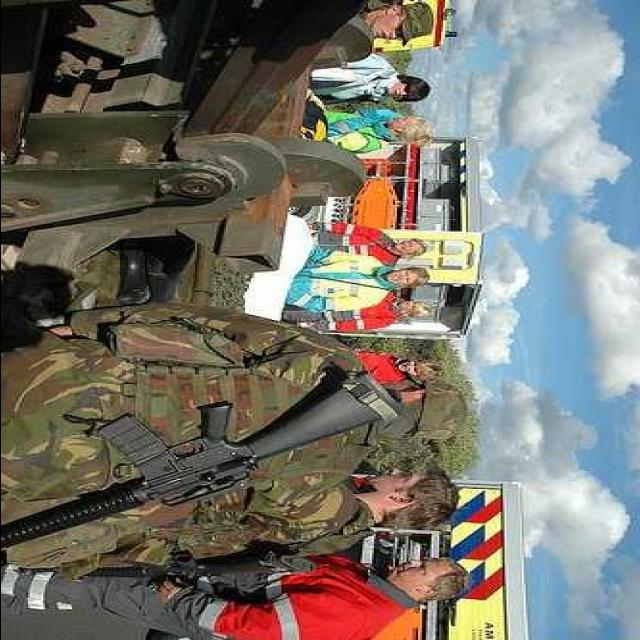heavyweapon: (1, 369, 397, 567)
